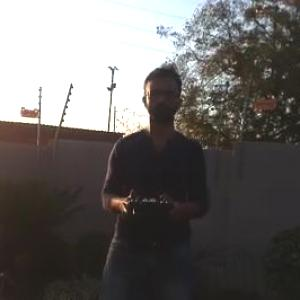follow: (81, 54, 205, 299)
